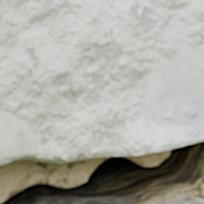brick: (0, 0, 203, 164), (161, 195, 203, 203)
crack: (2, 140, 203, 203)
